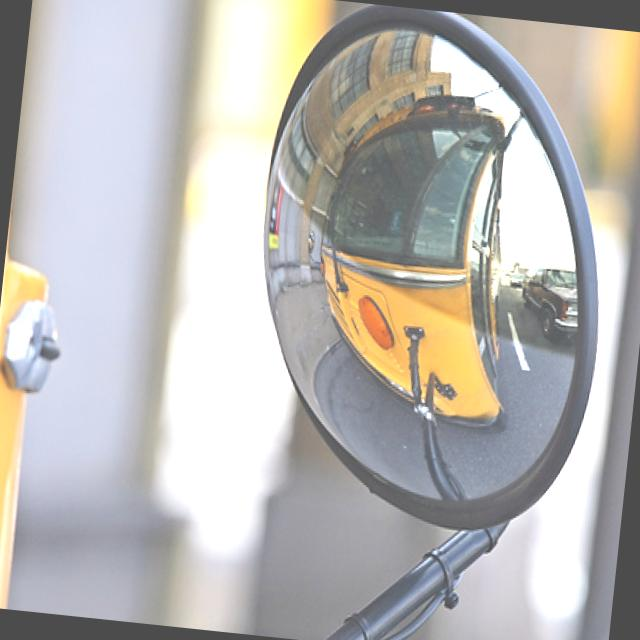Vehicle: (306, 90, 534, 422), (516, 263, 584, 343), (508, 272, 524, 288)
